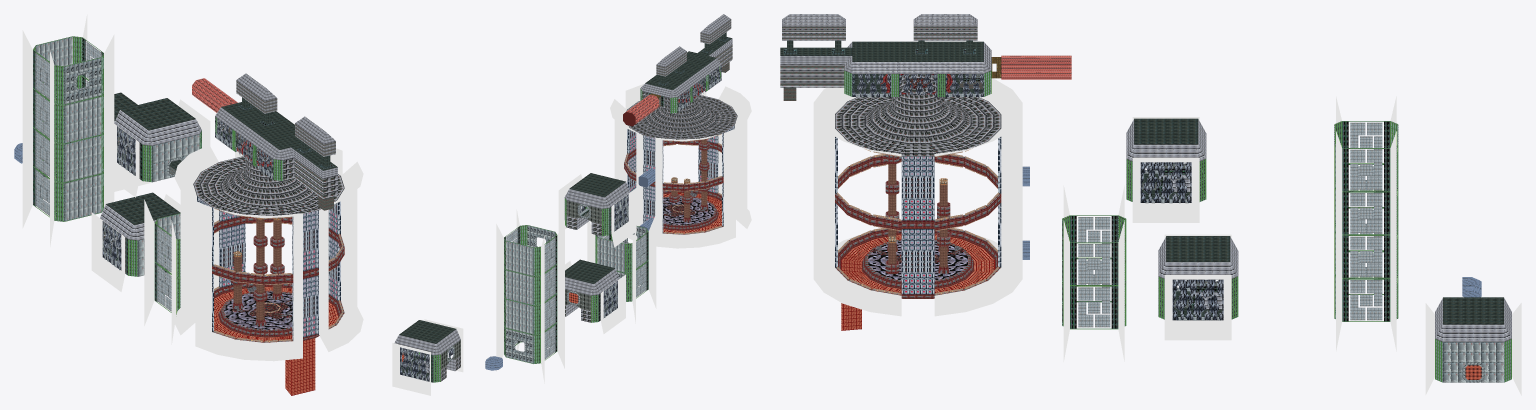
File: CannonsCoreKnuckles.obj
3 views of the same model, side by side, from view 1: azimuth 30°, elevation 25°; view 2: azimuth 150°, elevation 25°; view 3: azimuth 270°, elevation 25° (orthographic). The views are drawn at different scales.
Bounding box in the file's own units: 812 × 1141 × 2315.
32 materials, 32 textured.
